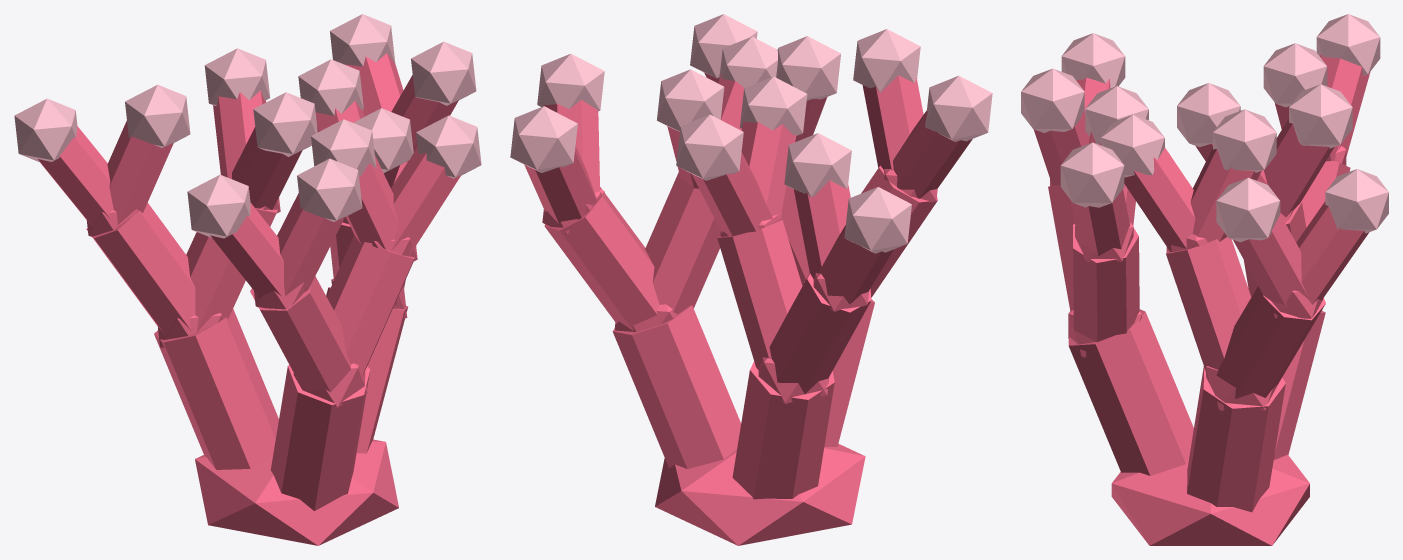
The model's file is coral-branch-pink.glb.
3 views of the same model, side by side, from view 1: azimuth 30°, elevation 25°; view 2: azimuth 150°, elevation 25°; view 3: azimuth 270°, elevation 25° (orthographic). The views are drawn at different scales.
Parts seen in each view (by area): view 1: coral-branch-pink; view 2: coral-branch-pink; view 3: coral-branch-pink.
Boxes of the visible parts, x1,y1,x2,y2 form: coral-branch-pink: [14, 14, 481, 545]; coral-branch-pink: [510, 14, 992, 545]; coral-branch-pink: [1021, 14, 1388, 545].
Size of the model in its own units: 1.42 by 1.49 by 1.1.
